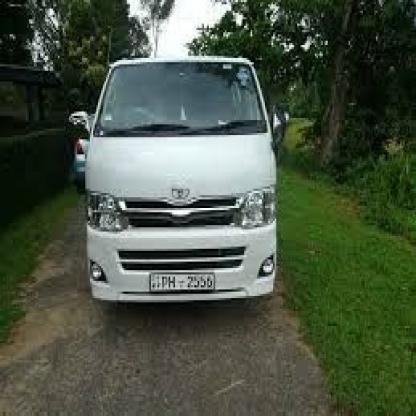number plate: (150, 270, 215, 290)
van front: (67, 24, 300, 314)
